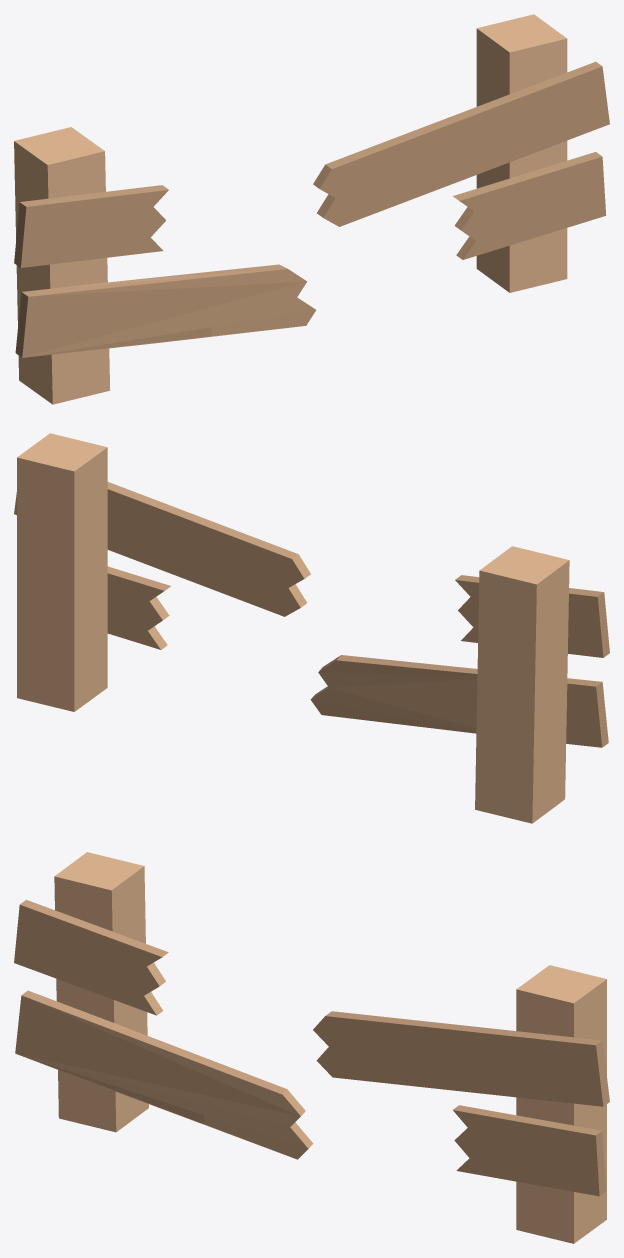
File: fenceBroken.fbx
The picture shows the model from 3 angles, top to bottom: view 1: azimuth 30°, elevation 25°; view 2: azimuth 150°, elevation 25°; view 3: azimuth 330°, elevation 25°; orthographic projection.
Visible parts, largest first — view 1: fenceBroken1, fenceBroken2; view 2: fenceBroken1, fenceBroken2; view 3: fenceBroken1, fenceBroken2.
Part boxes in pixels (left/top/right/bottom): fenceBroken1: left=313, top=14, right=609, bottom=292; fenceBroken2: left=14, top=127, right=315, bottom=404; fenceBroken1: left=14, top=433, right=310, bottom=711; fenceBroken2: left=310, top=546, right=609, bottom=823; fenceBroken1: left=313, top=965, right=609, bottom=1243; fenceBroken2: left=14, top=852, right=313, bottom=1159.
Bounding box in the file's own units: 103 × 40.01 × 12.33.
